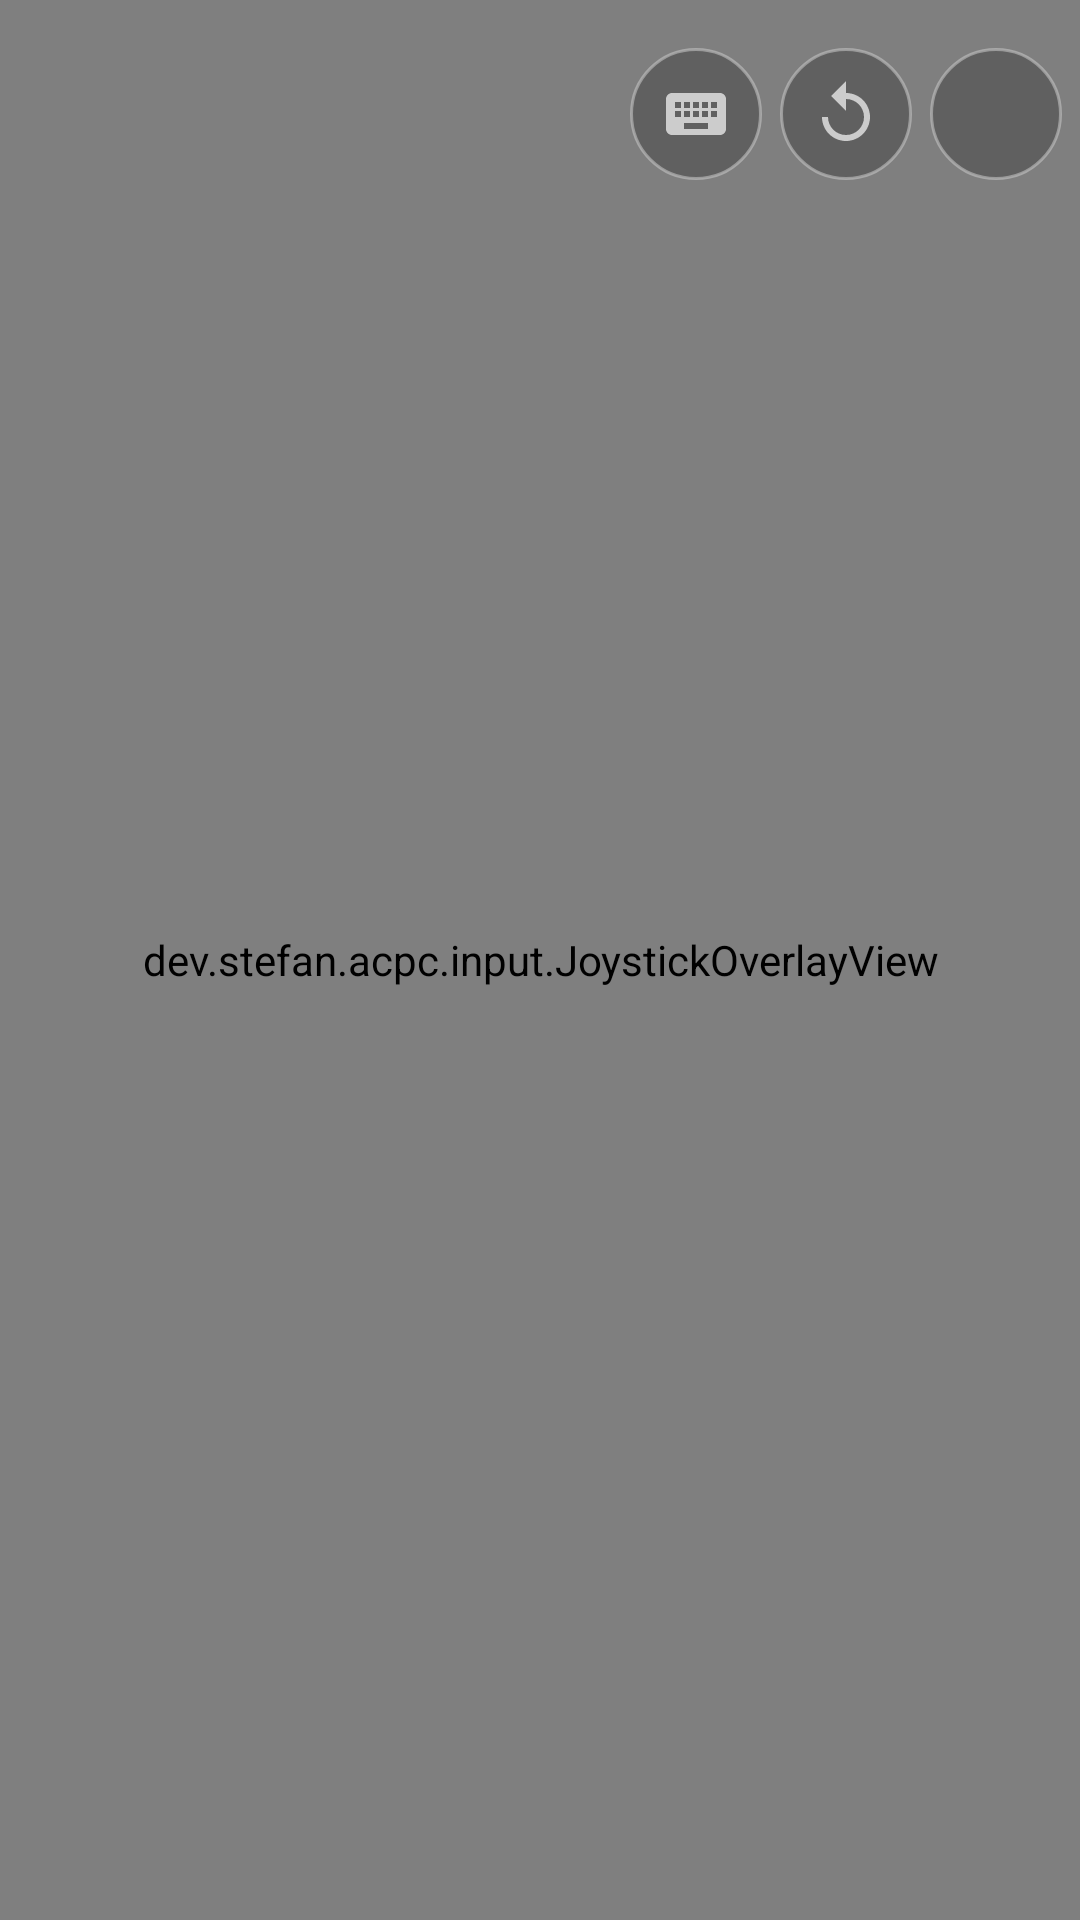

Icon bounding boxes for this 1080px x 1920px phone screenshot, format BBox(x1, y1, x2, y2):
Clavier CPC: BBox(630, 48, 762, 180)
Reset du CPC: BBox(780, 48, 912, 180)
